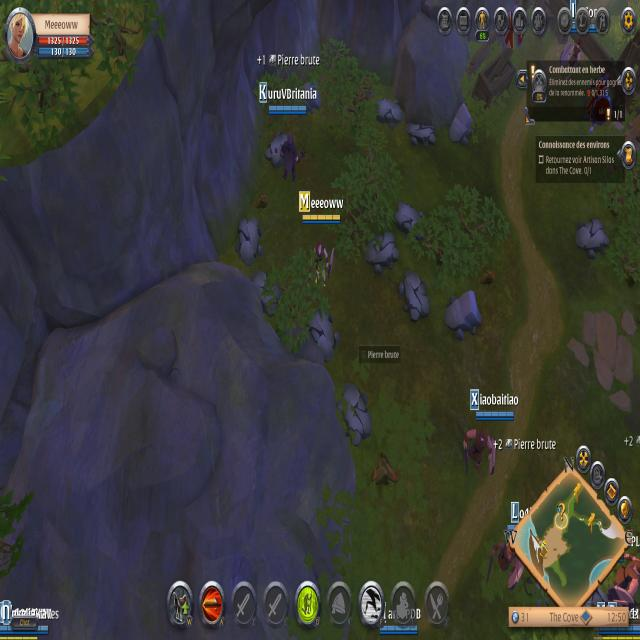broken stone: (302, 296, 343, 369), (337, 378, 374, 447), (232, 209, 268, 271), (397, 268, 431, 328), (572, 212, 610, 259), (395, 193, 427, 246), (364, 231, 399, 274), (408, 110, 438, 151), (376, 90, 404, 128)
stone: (442, 289, 483, 342), (448, 98, 474, 150)
